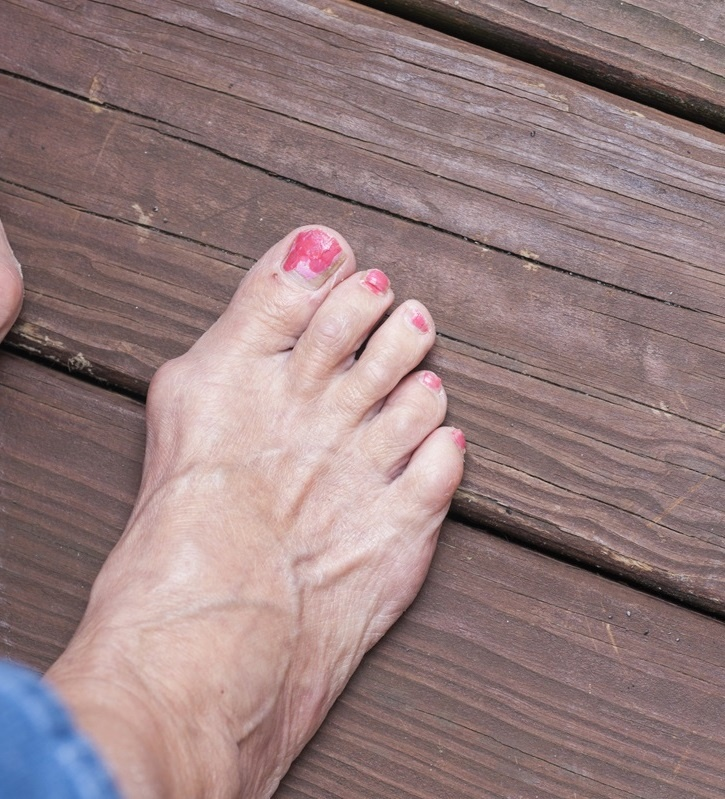feet: (7, 207, 480, 787)
